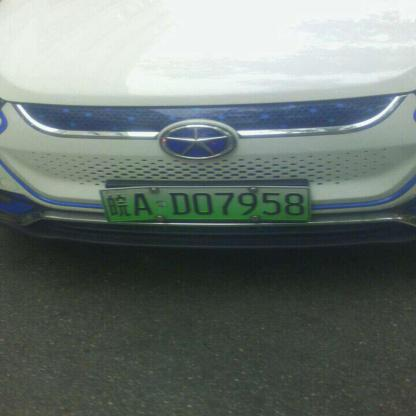lp: (100, 188, 310, 222)
